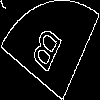B: (25, 25, 64, 81)
